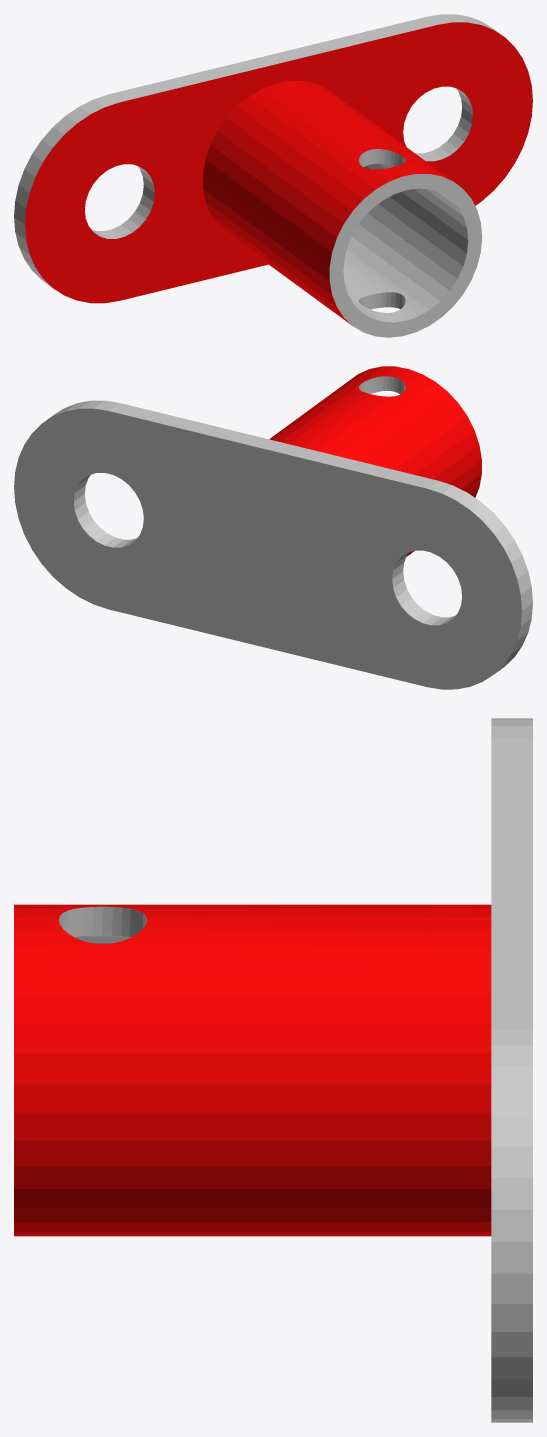
Rendered from Encaixe_coluna_stp_5_9.obj.
The picture shows the model from 3 angles, top to bottom: view 1: azimuth 30°, elevation 25°; view 2: azimuth 150°, elevation 25°; view 3: azimuth 270°, elevation 25°; orthographic projection. The views are drawn at different scales.
Visible parts, largest first — view 1: Object1; view 2: Object1; view 3: Object1.
Boxes of the visible parts, <box> form: Object1: <box>14,14,532,337</box>; Object1: <box>14,366,532,689</box>; Object1: <box>14,718,532,1422</box>.
Size of the model in its own units: 79.79 by 29.79 by 37.5.
